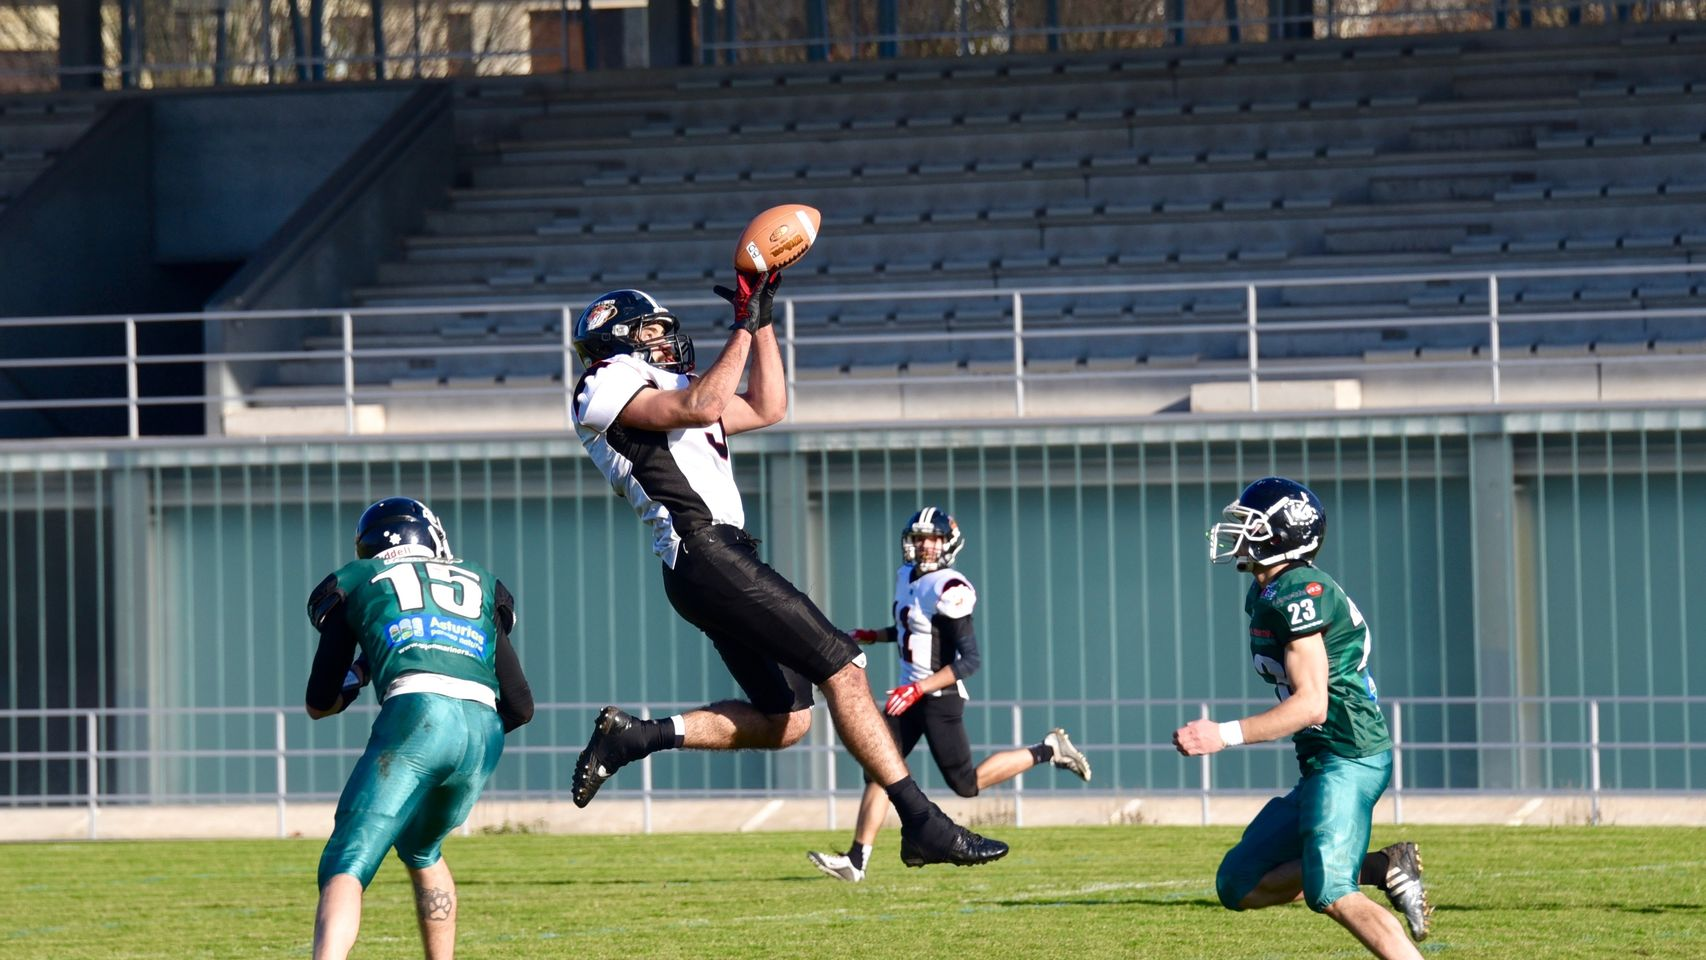futbol americano: (736, 204, 823, 272)
